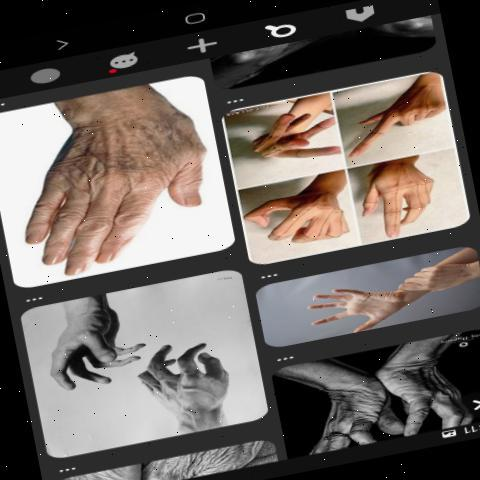Hands: (2, 104, 227, 279), (27, 302, 141, 403), (121, 341, 255, 421), (236, 98, 347, 176), (359, 153, 446, 243), (274, 284, 416, 331)
